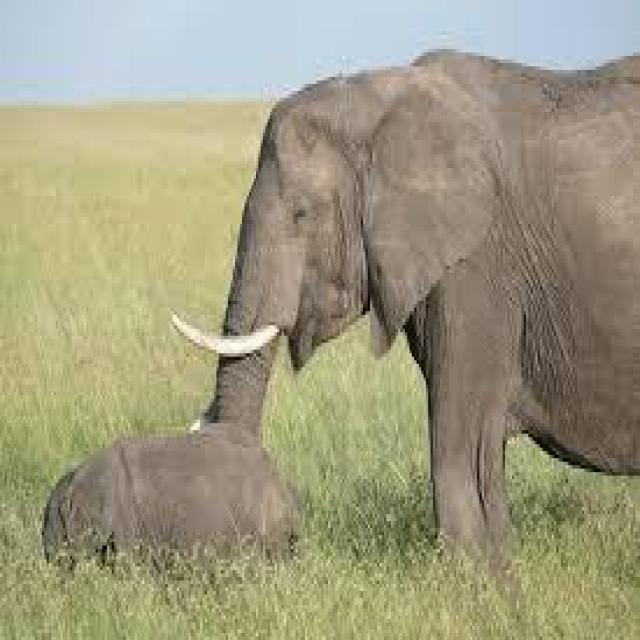Elephant: (207, 42, 638, 546)
